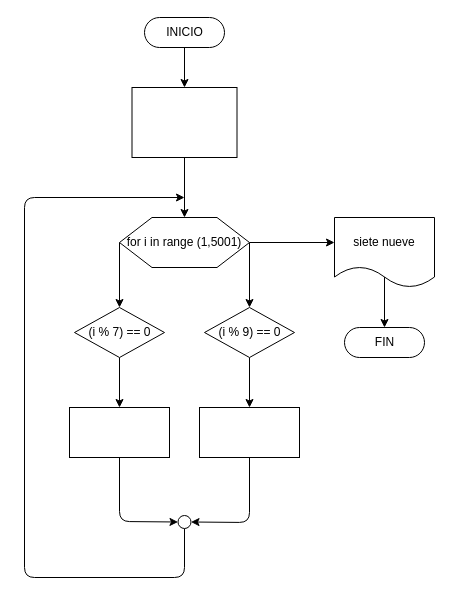
Image size: 452x603. Some labels were removed from this diagram. The box of each missing label's shape, as (x1, y1, x2, y2) in pixels:
nueve += 1: (198, 406, 300, 458)
siete += 1: (68, 406, 170, 458)
siete = 0 nueve = 0: (131, 86, 237, 158)
